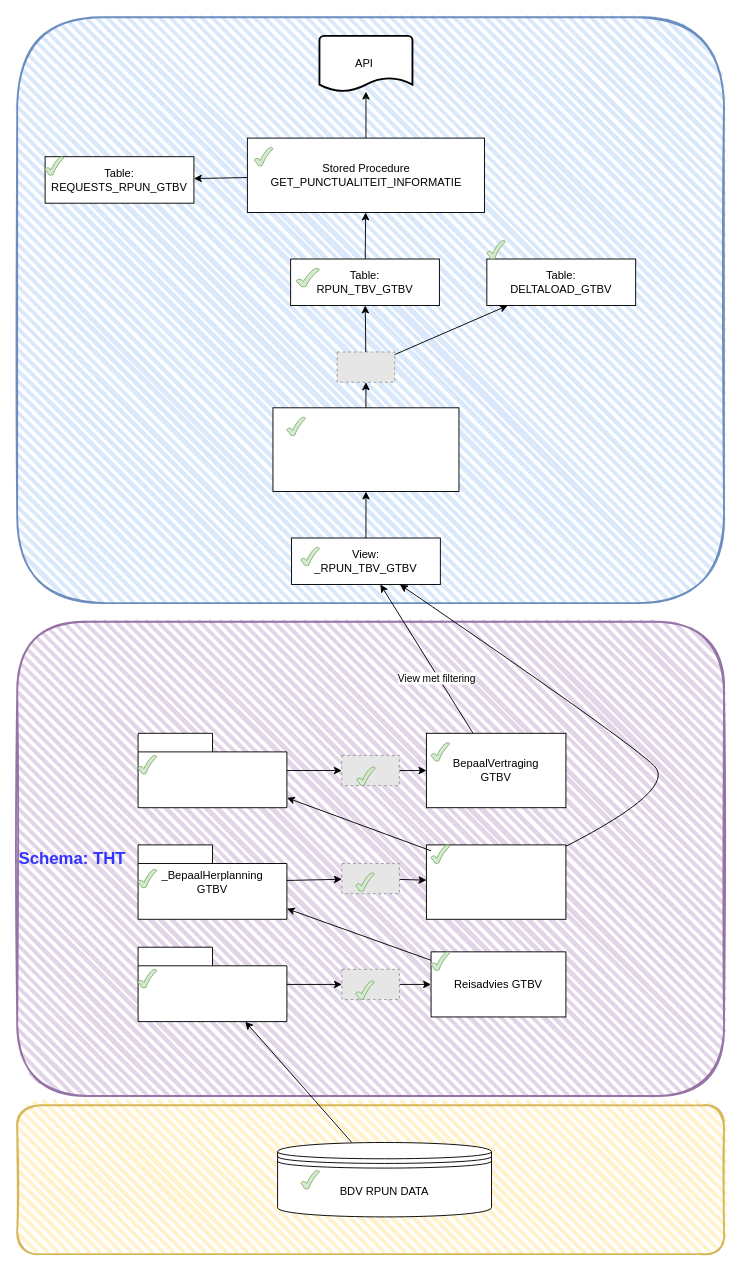
Some shapes in this 740 by 1270 pixel diagram are drawn without their labels. Grey dashed boxes stand in for pictures. The box of each missing label's shape, as (x1, y1, x2, y2) in pixels:
_BepaalVertraging GTBV: (137, 732, 287, 808)
_Reisadvies_GBTV: (137, 946, 287, 1022)
BepaalHerplanning GTBV: (425, 844, 566, 919)
Schema: API_GTBV: (16, 16, 724, 604)
Stored Procedure USP_UPDATE_RPUN_TBV_GTBV: (272, 407, 459, 492)
